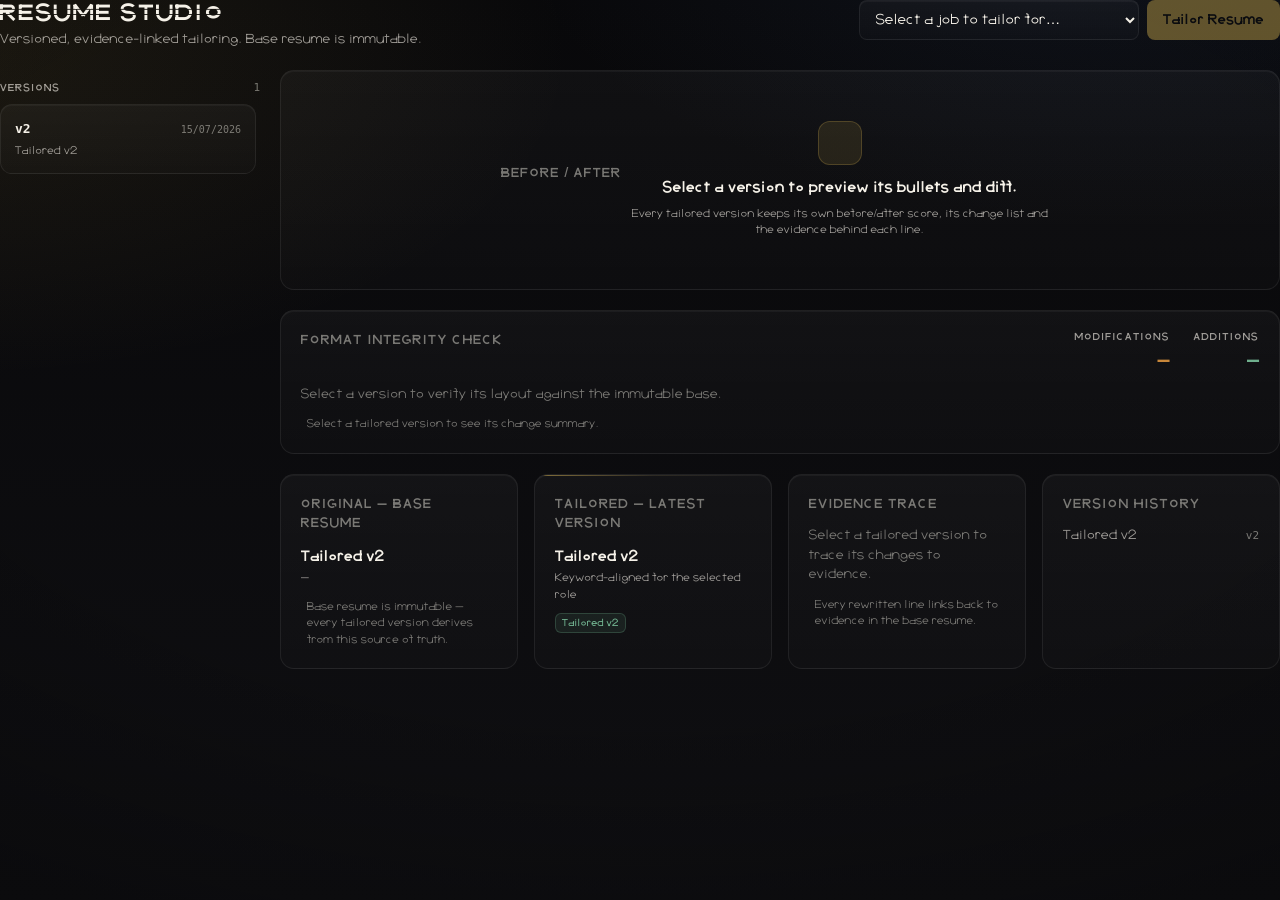
Resume Studio — ATS grid degraded-scoring UI (GMV4-ats-001/002) › renders the real semantic score when semantic_path is "local"
Click the button with test id "resume-version-card".
click(128, 139)  # box [0,104,256,174]
(page scrolled)
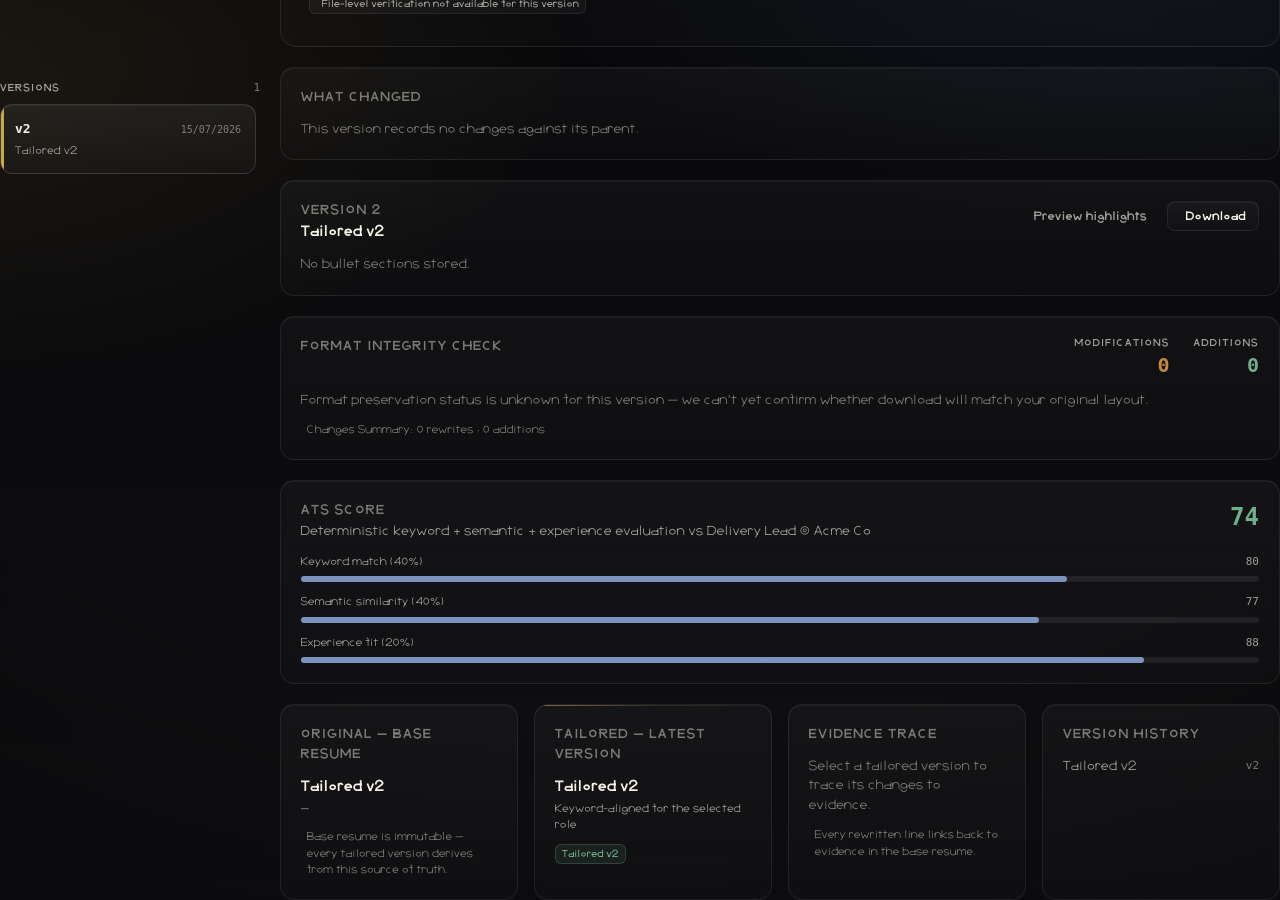
Now the text with class "mono" reads "77", box [1246,595,1259,608]
